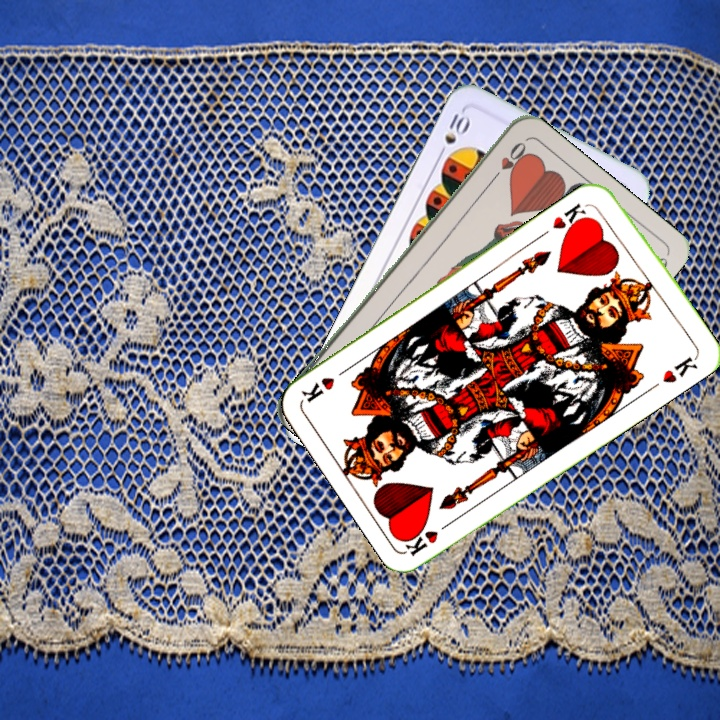HK: (401, 515, 457, 558), (548, 198, 593, 237)
HO: (485, 138, 529, 186)
S10: (433, 106, 474, 161)
